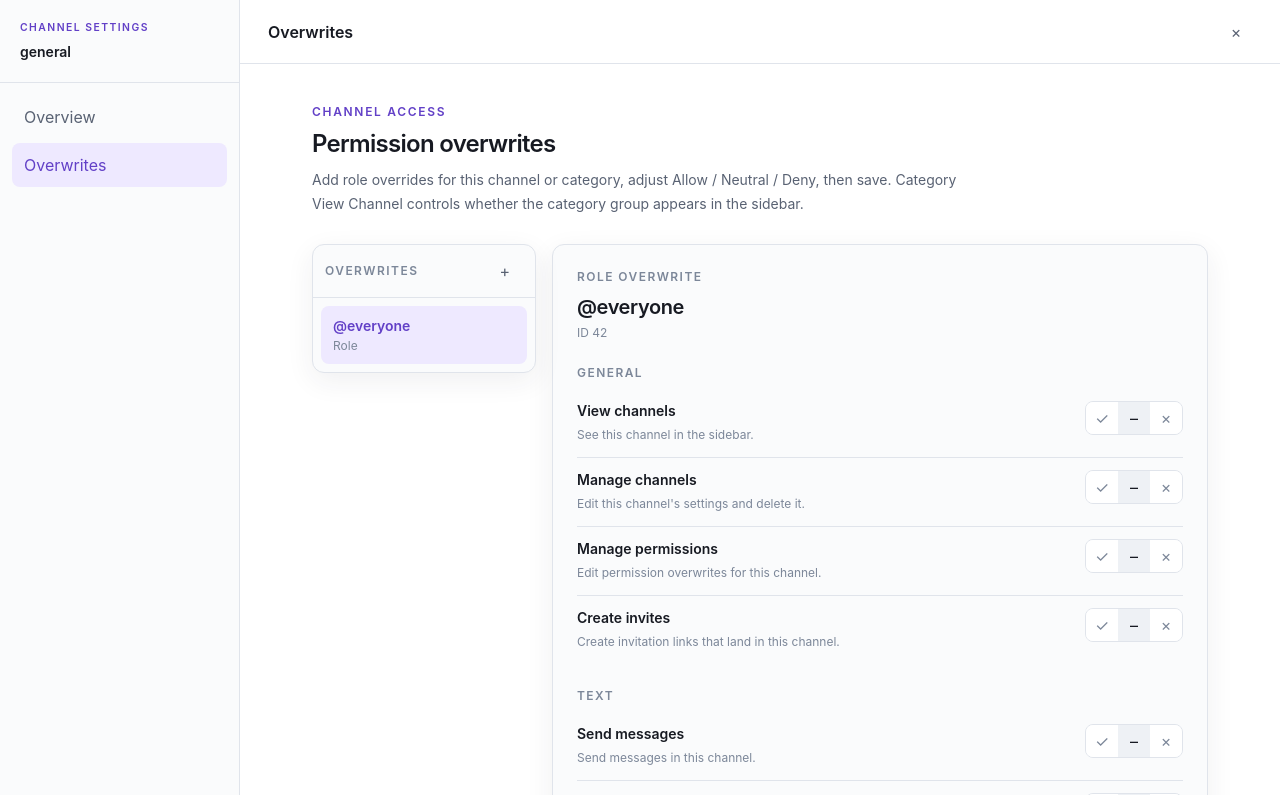
Test: ChannelSettingsPage › saves overwrite permission changes only when Save is clicked
Click the radio button named "View channels allow": (1102, 418) [1086,402,1118,434]
(page scrolled)
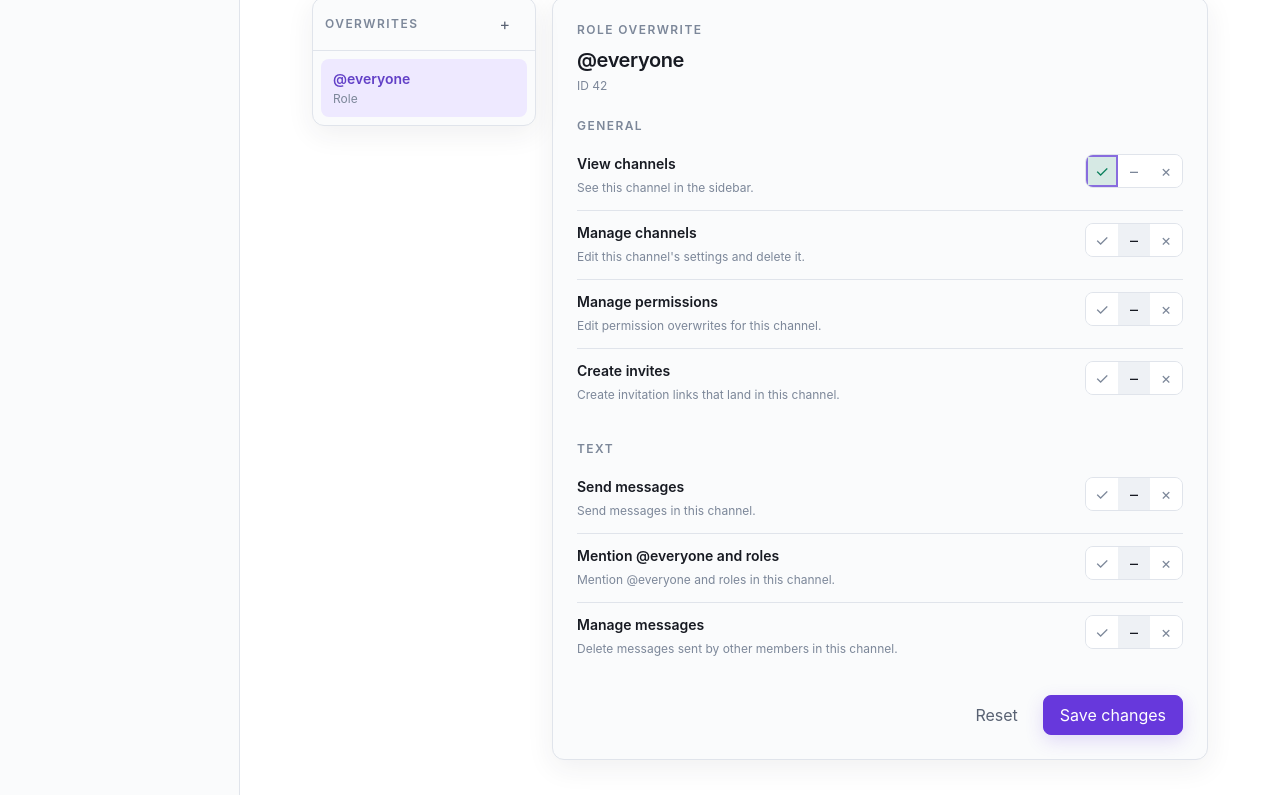
Click the button "Save changes": (1113, 715) [1043,695,1183,735]
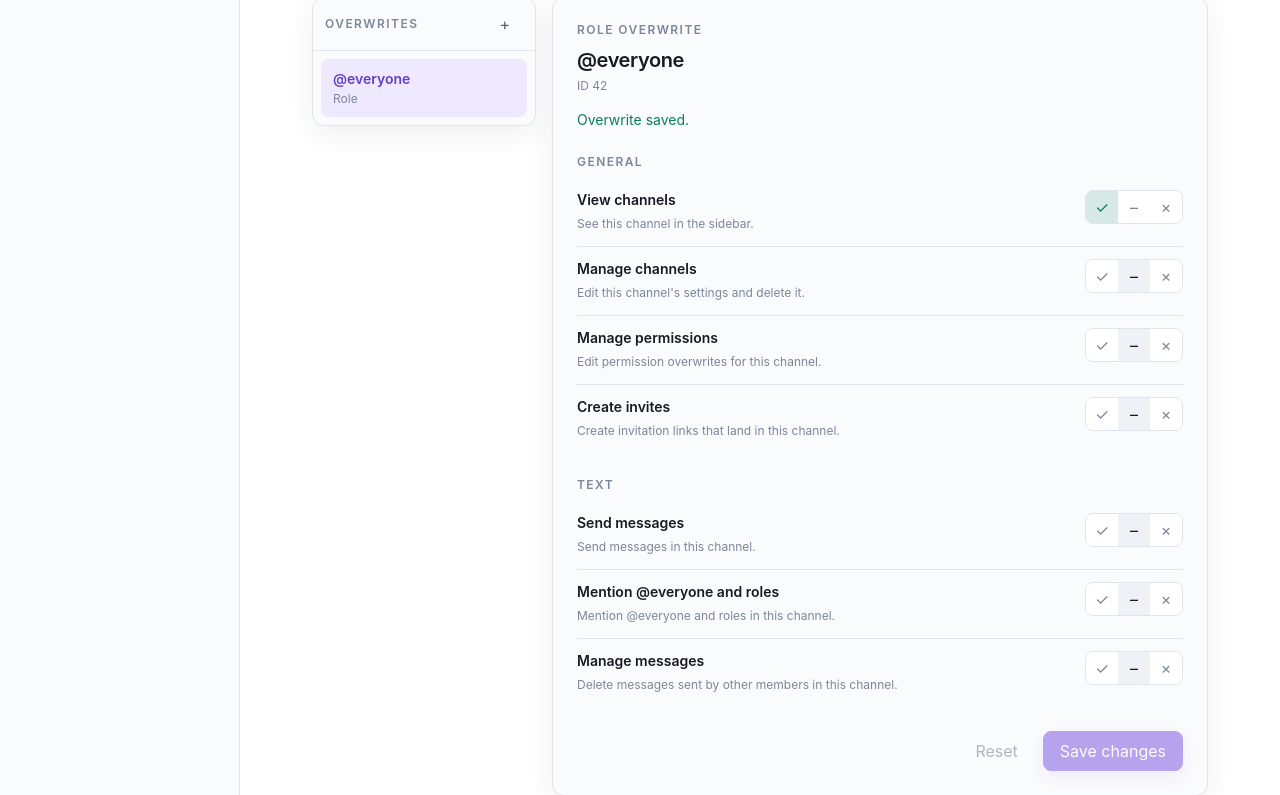
Result: the message reads "Overwrite saved." at [577,111,689,128]
